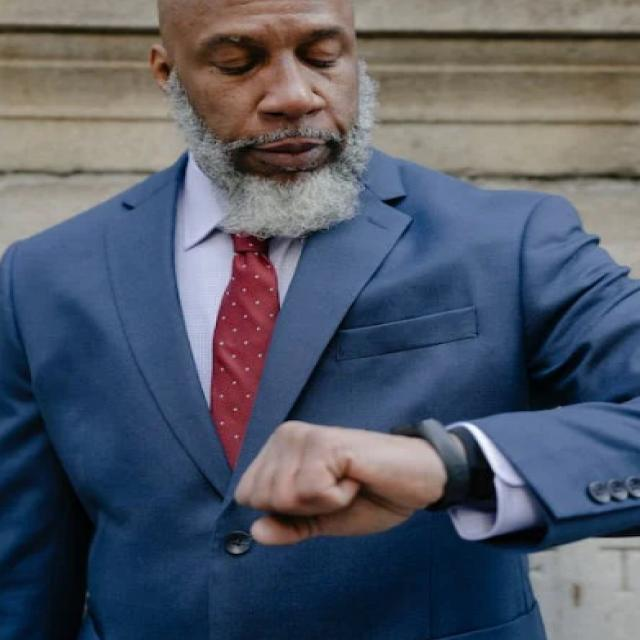Watch: (390, 414, 490, 509)
